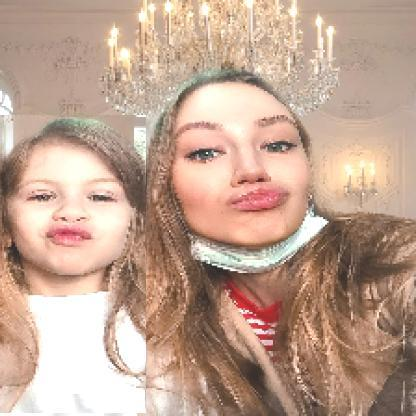child: (1, 116, 148, 415)
